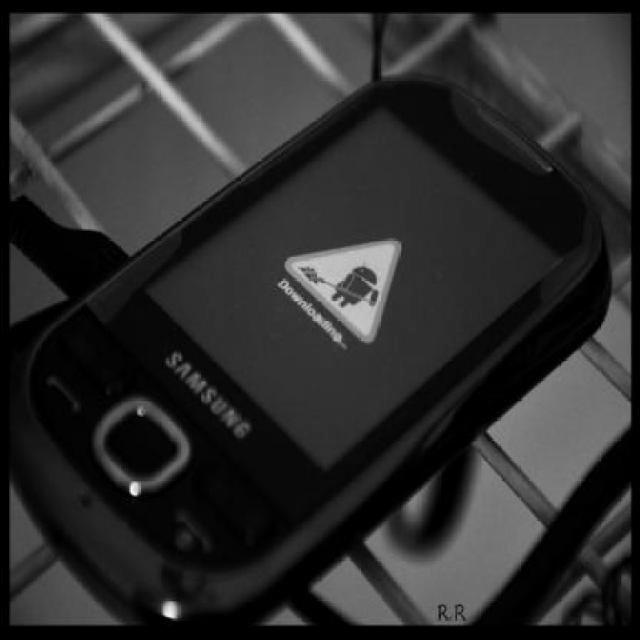fake: (0, 51, 640, 640)
